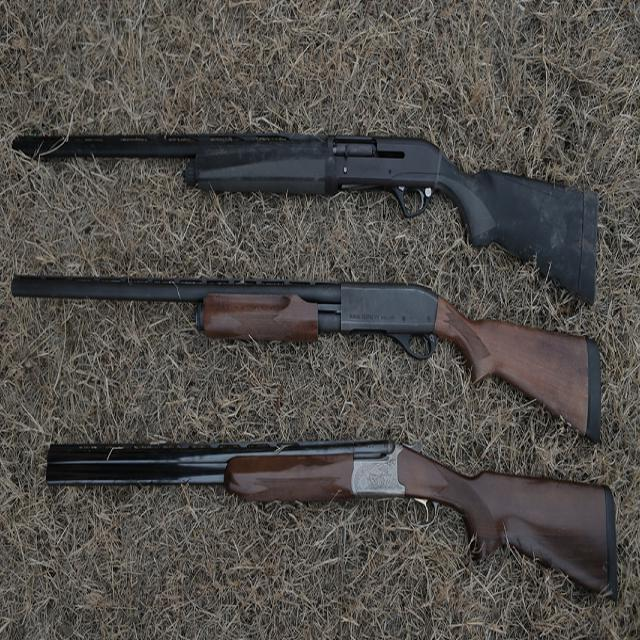shotgun: (28, 430, 620, 640), (10, 108, 618, 295), (4, 288, 612, 412)
